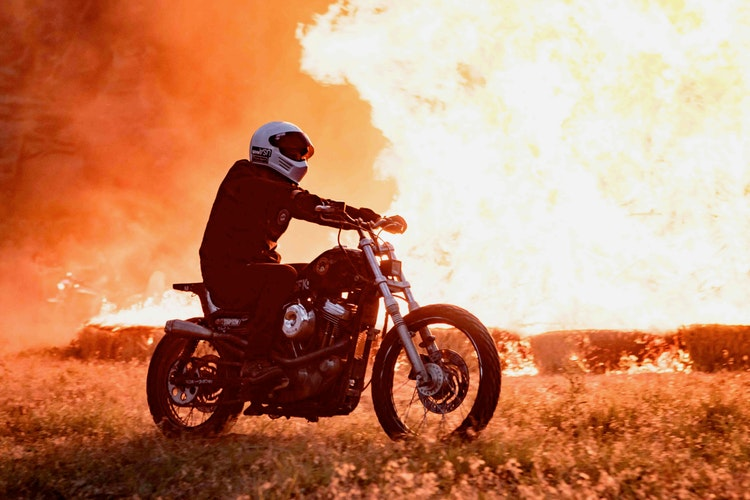helmet: (244, 106, 322, 181)
